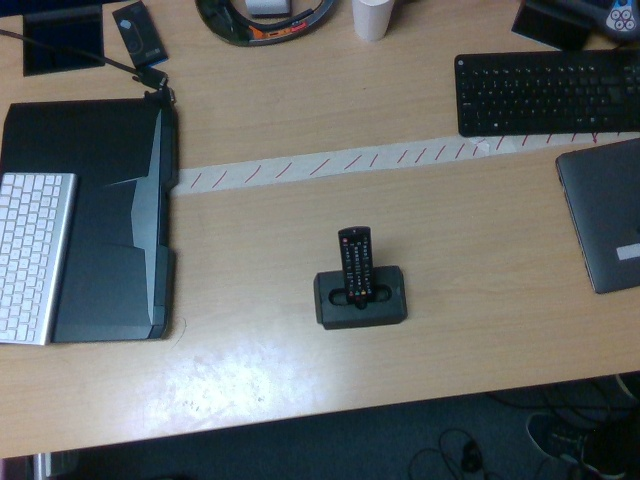remote: (337, 226, 373, 303)
